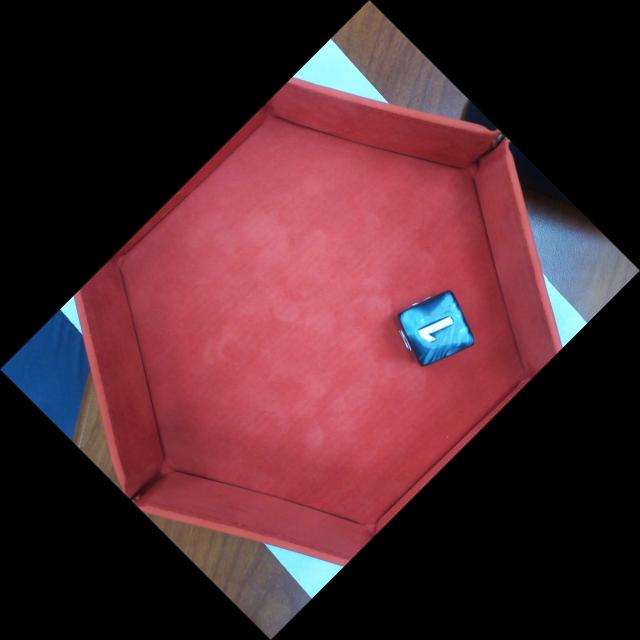dice: (394, 287, 480, 371)
